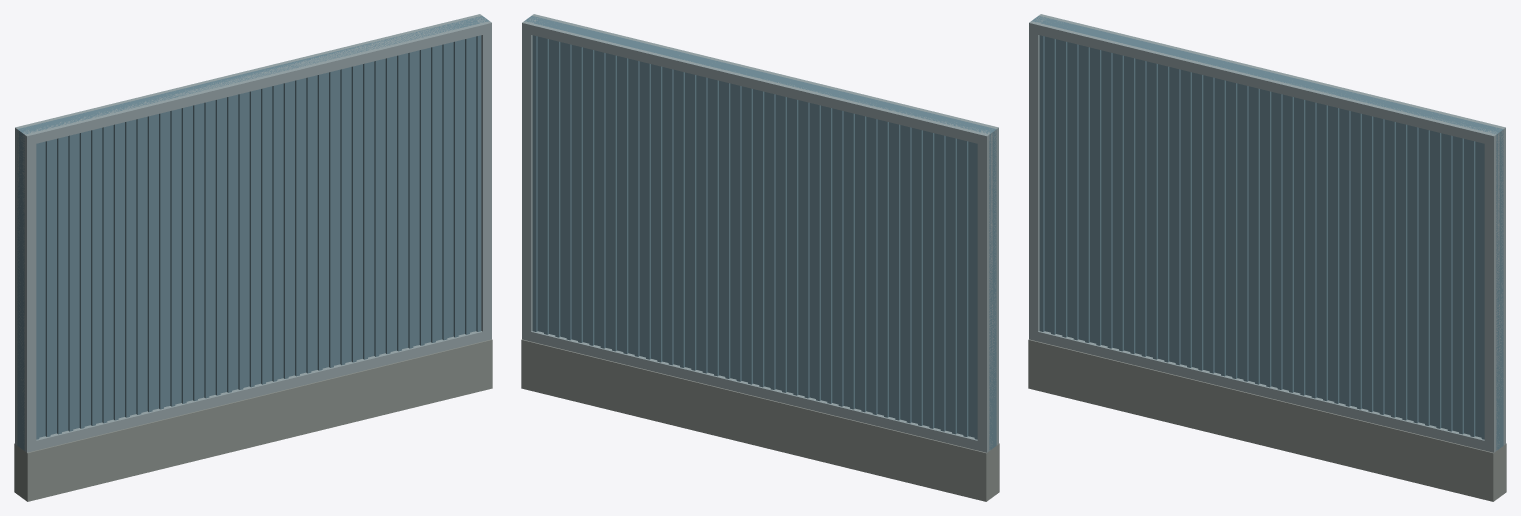
File: wall_straight.glb
3 views of the same model, side by side, from view 1: azimuth 30°, elevation 25°; view 2: azimuth 150°, elevation 25°; view 3: azimuth 330°, elevation 25° (orthographic).
Parts seen in each view (by area): view 1: Industrial_wall_straight; view 2: Industrial_wall_straight; view 3: Industrial_wall_straight.
Part boxes in pixels (bbox=[...]): Industrial_wall_straight: bbox=[14, 14, 492, 501]; Industrial_wall_straight: bbox=[521, 14, 999, 501]; Industrial_wall_straight: bbox=[1028, 14, 1506, 501].
Size of the model in its own units: 4 by 3 by 0.2.
